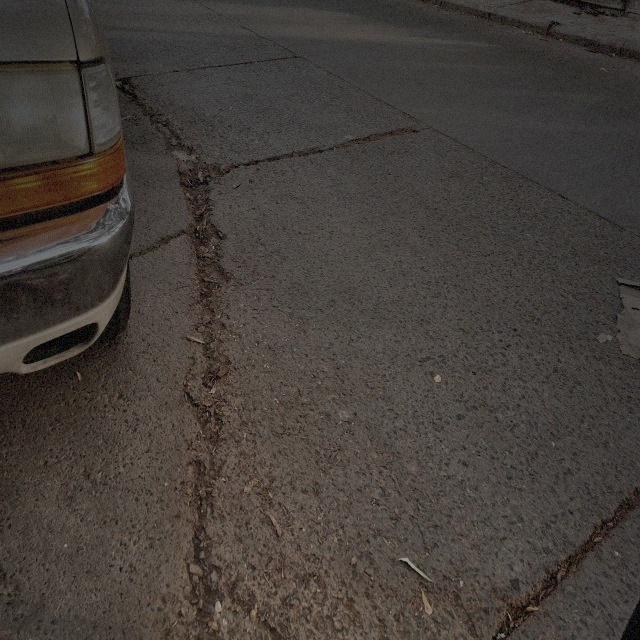pothole: (178, 299, 232, 531), (176, 150, 225, 288)
